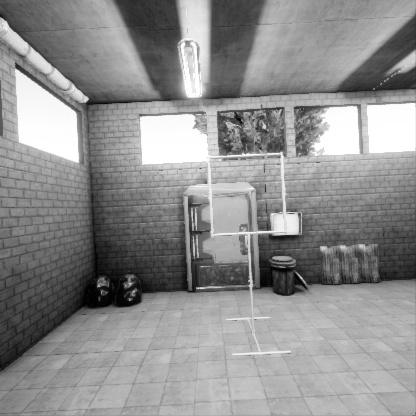gate: (206, 182, 291, 267)
